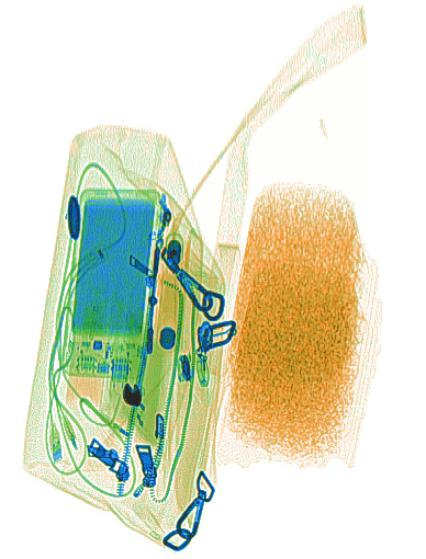plasticBottleWithaNozzle: (63, 271, 112, 427)
